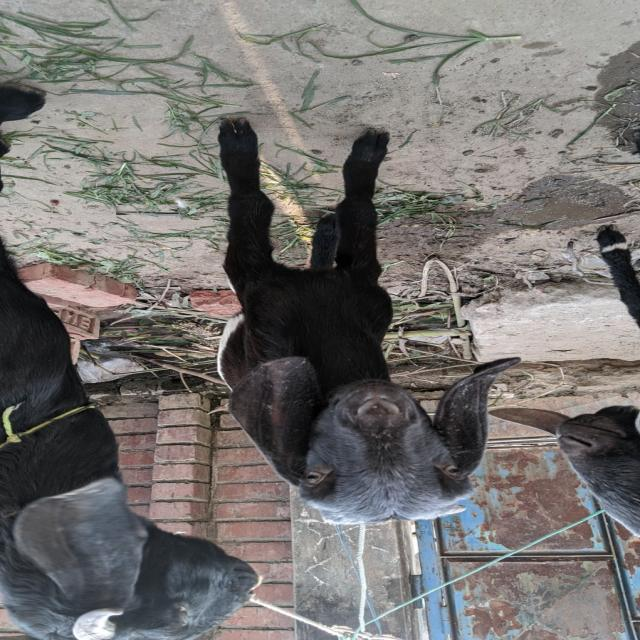Goat: (2, 84, 264, 640), (215, 118, 523, 526), (488, 225, 640, 539)
